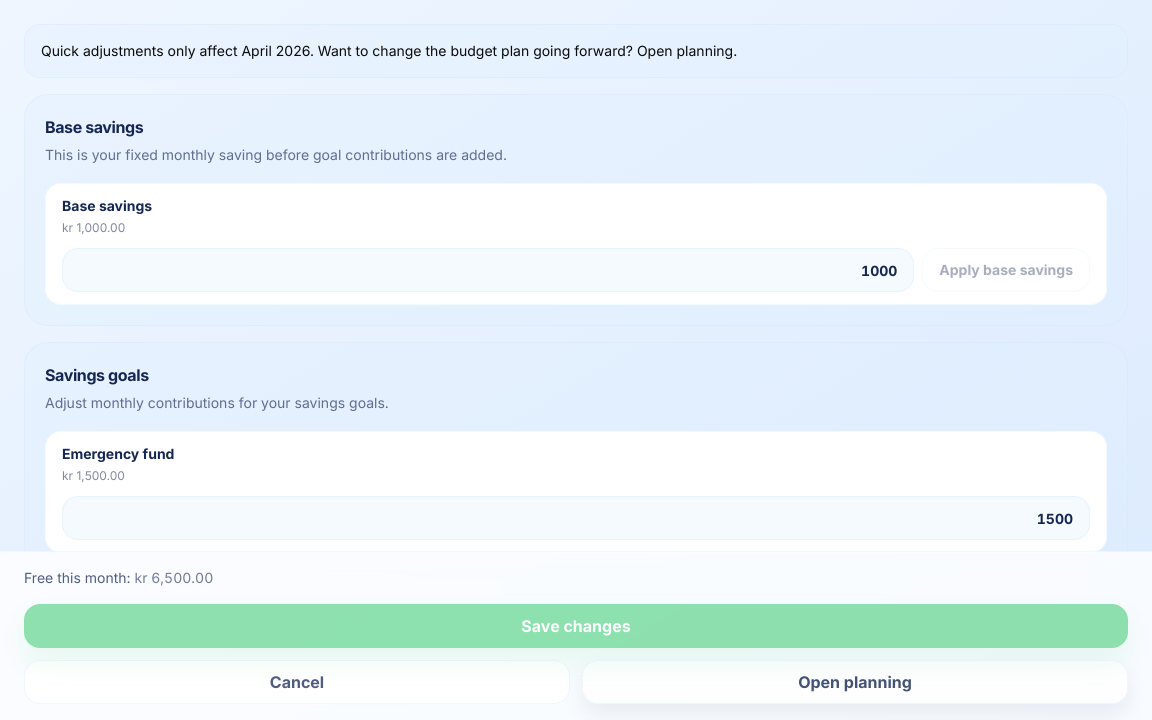
SavingsPanel PR E base savings reconciliation › validates the base savings input separately from goal Save
Clear the field named "Base savings" at (488, 270), box x1=62 y1=248 x2=914 y2=292
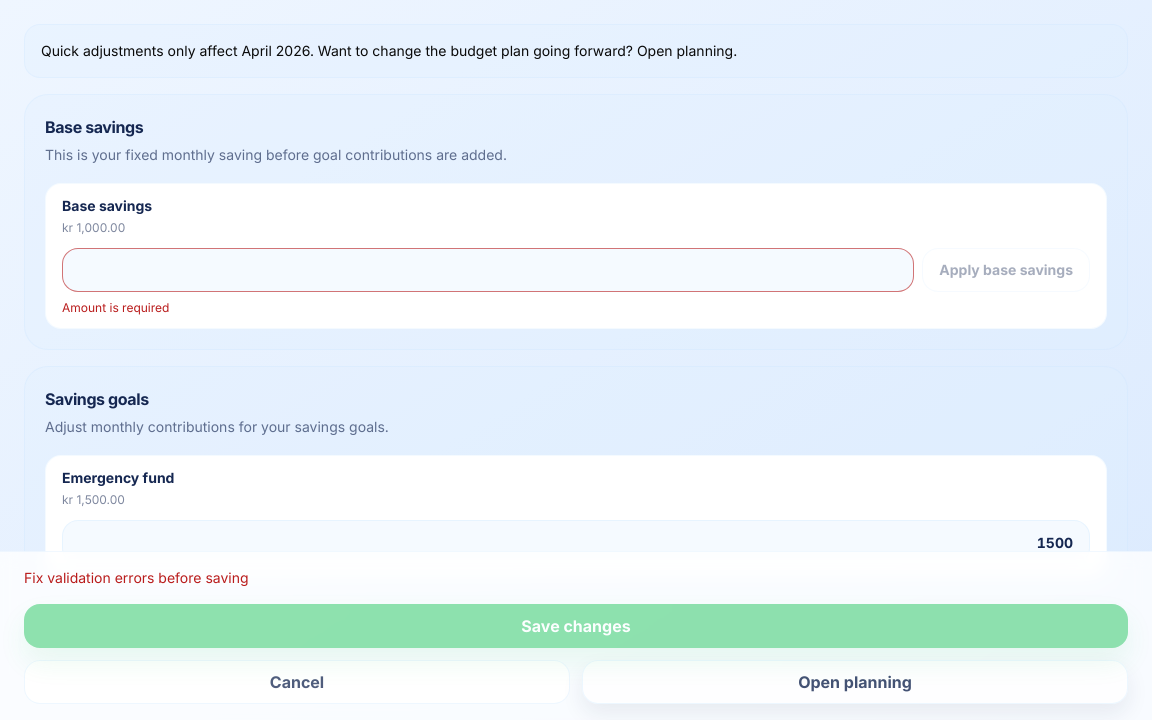
Expected: the button with test id "period-savings-base-apply" is disabled, x1=922 y1=248 x2=1090 y2=292
Now the message reads "Amount is required", box x1=62 y1=300 x2=169 y2=315
